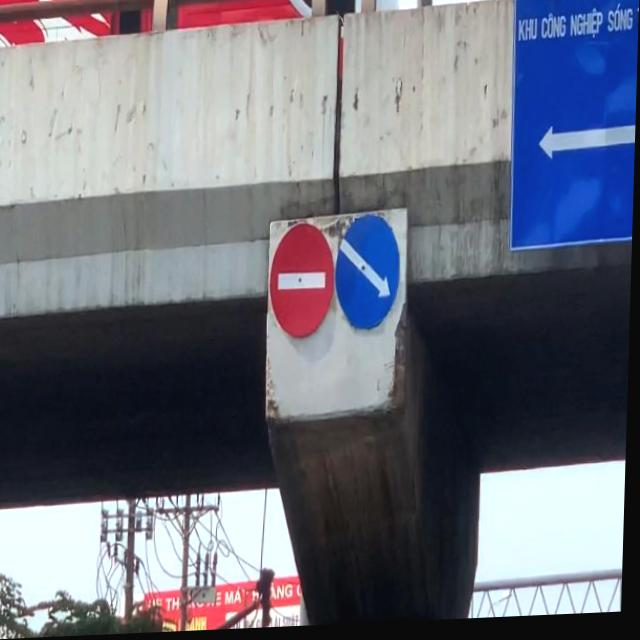Cam di nguoc chieu: (269, 222, 338, 342)
Vong chuong ngai vat sang phai: (334, 215, 405, 338)
